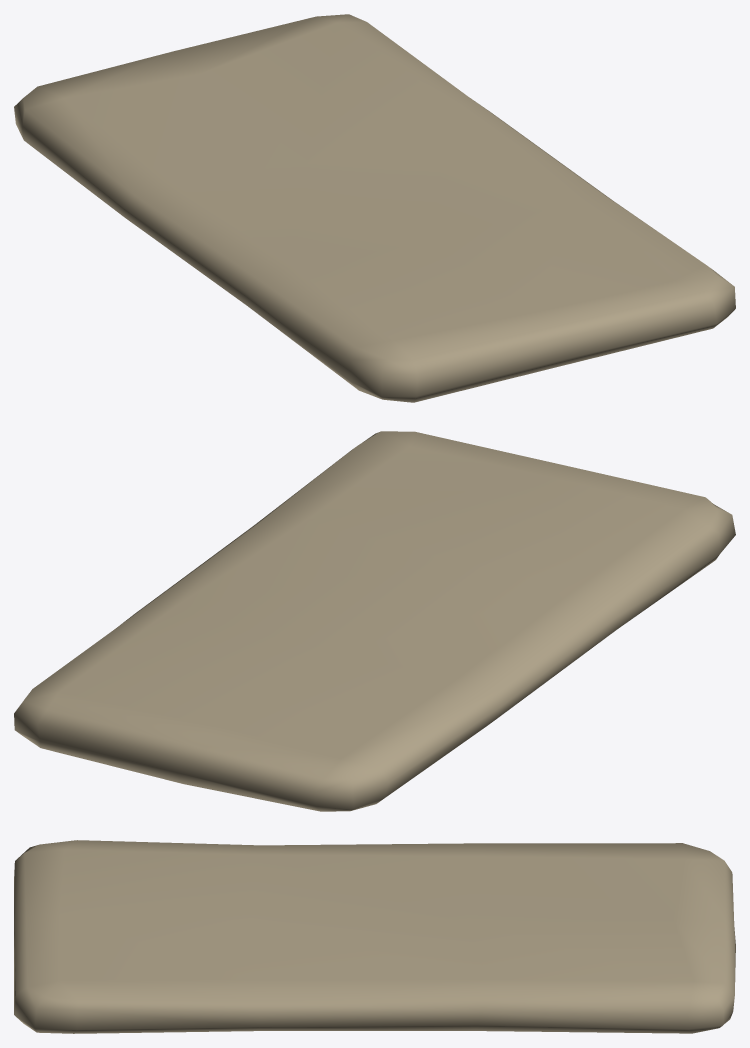
The model's file is rpgpp_ag_mattress_01.fbx.
3 views of the same model, one above another, from view 1: azimuth 30°, elevation 25°; view 2: azimuth 150°, elevation 25°; view 3: azimuth 270°, elevation 25° (orthographic). The views are drawn at different scales.
Visible parts, largest first — view 1: rpgpp_ag_mattress_01; view 2: rpgpp_ag_mattress_01; view 3: rpgpp_ag_mattress_01.
Boxes of the visible parts, left/top/right/bottom form: rpgpp_ag_mattress_01: left=14, top=14, right=735, bottom=402; rpgpp_ag_mattress_01: left=14, top=431, right=735, bottom=811; rpgpp_ag_mattress_01: left=14, top=840, right=735, bottom=1033.
Size of the model in its own units: 1.43 by 0.1781 by 2.61.
